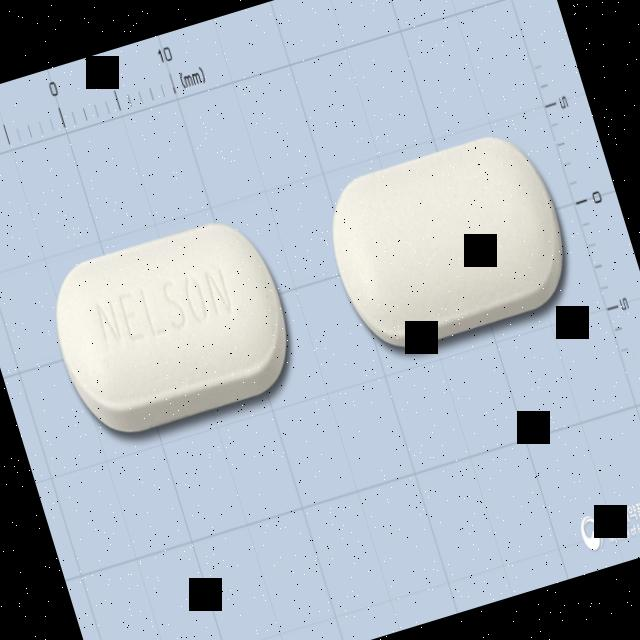Ciproctan: (33, 198, 315, 455)
